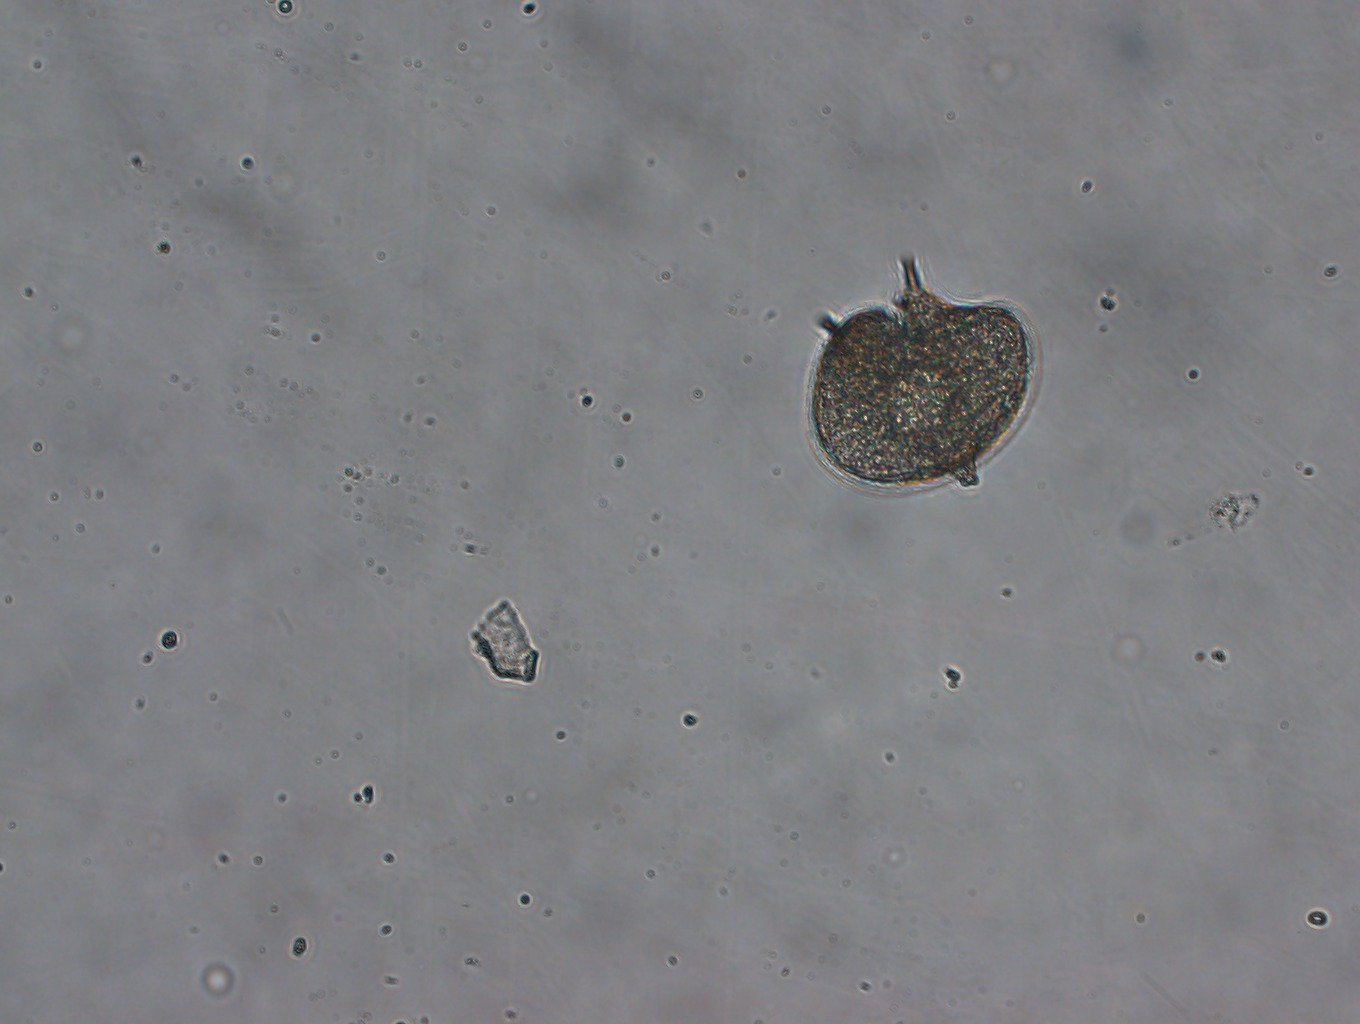protoperidinium: (804, 251, 1033, 494)
